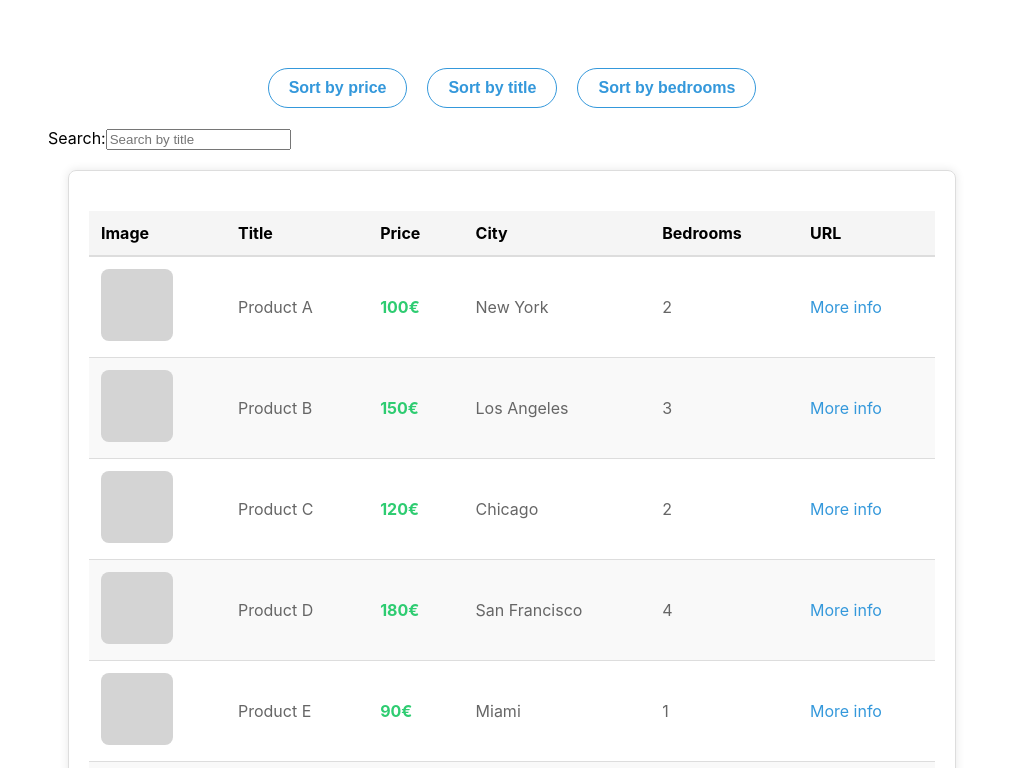
Test case: ProductsList component › displays products sorted by prices also on the second page
The width and height of the screenshot is (1024, 768).
What coordinates should you click on to do the following:
click the button "Sort by price"
I would click on:
 (338, 88)
Its box is left=268, top=68, right=407, bottom=108.
(page scrolled)
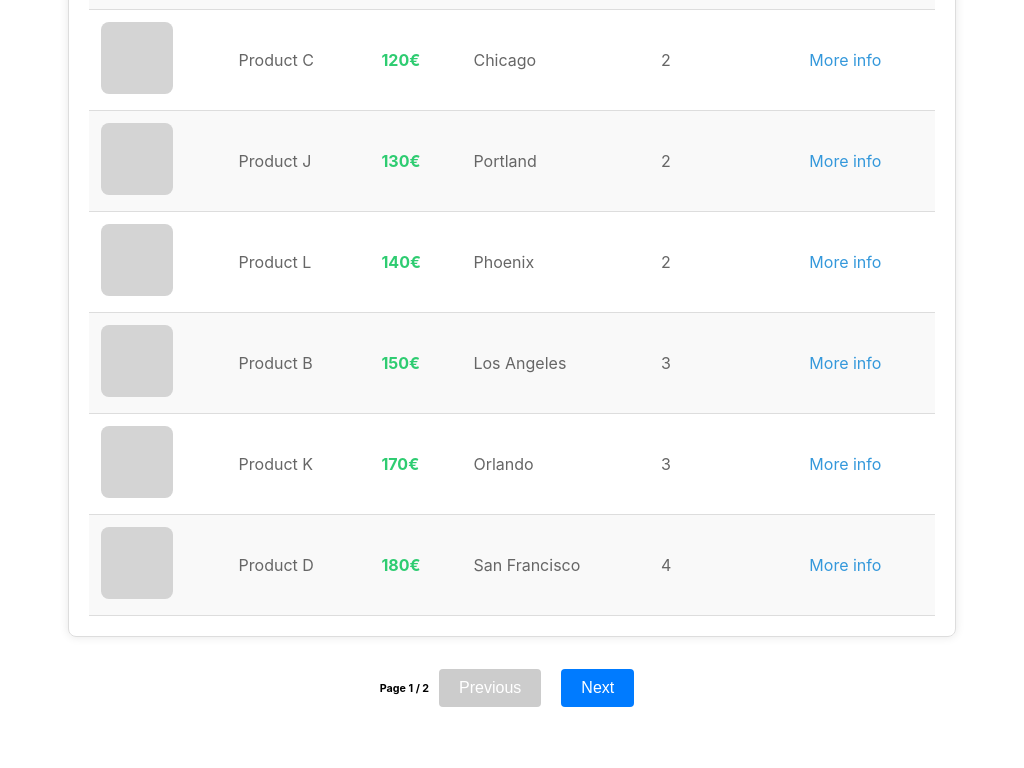
What coordinates should you click on to do the following:
click the button "Next"
I would click on:
 (598, 688)
Its box is left=561, top=670, right=634, bottom=708.
(page scrolled)
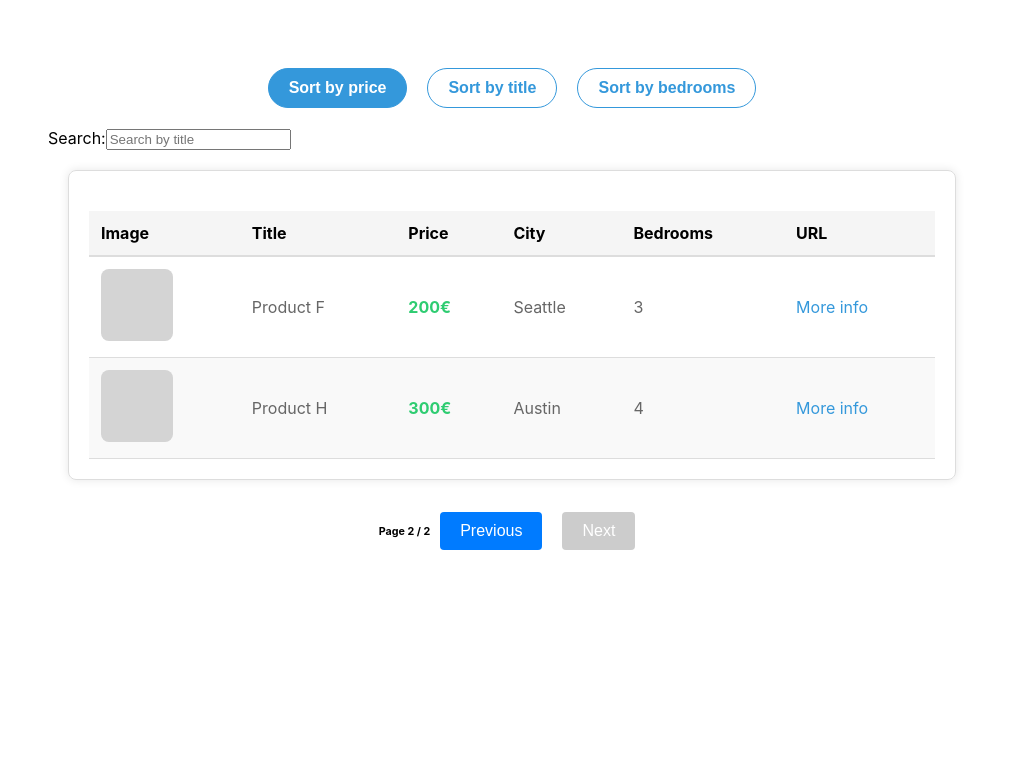
Expected: the number of rows is 3, left=89, top=211, right=935, bottom=256; left=89, top=256, right=935, bottom=358; left=89, top=358, right=935, bottom=458
Result: the text "Product F" is shown at left=252, top=297, right=325, bottom=317
Result: the text "Product H" is shown at left=252, top=398, right=327, bottom=418
